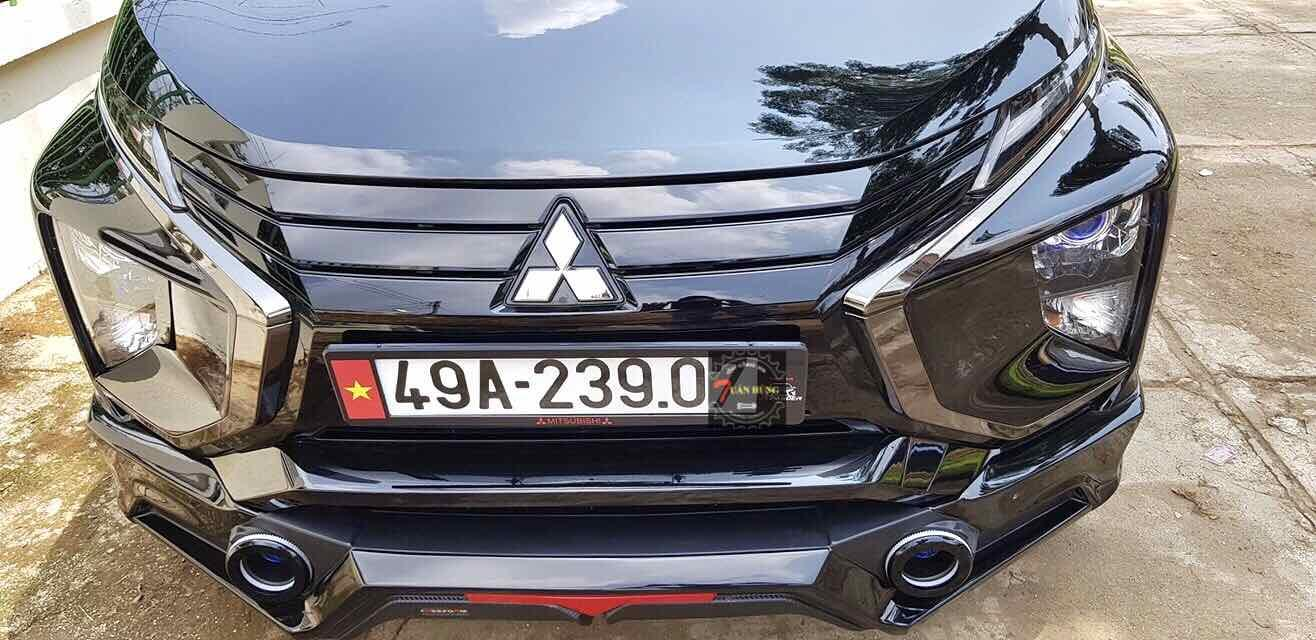numplate: (321, 340, 718, 432)
